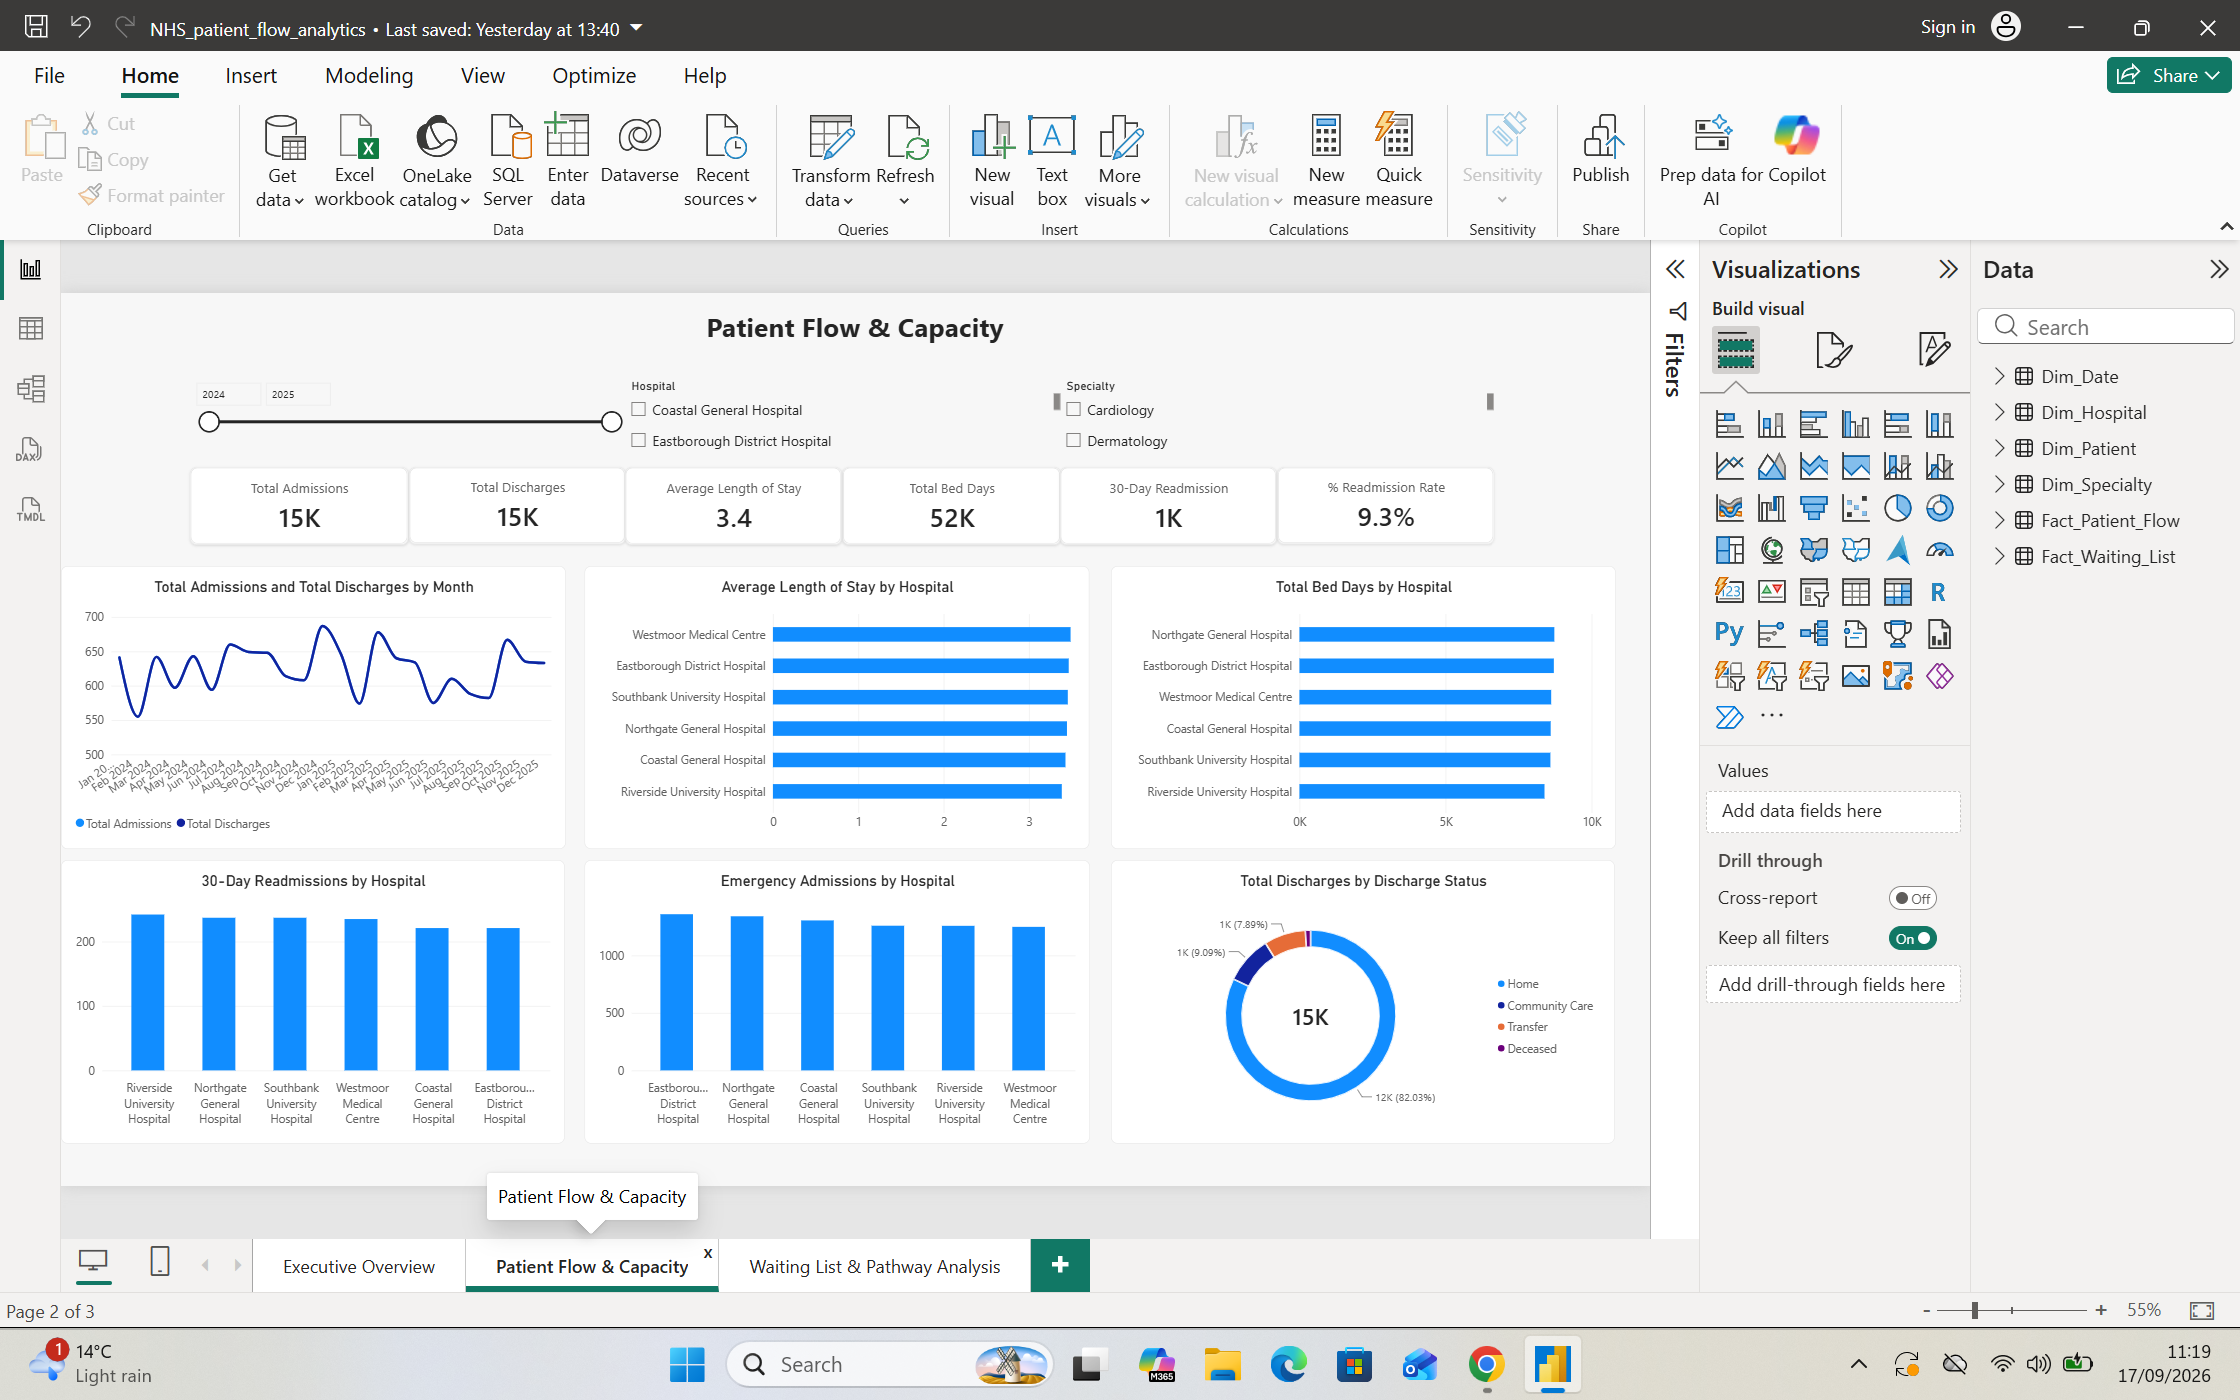

What the dashboard file says about the page in this screenshot:
{"tool":"powerbi","page":{"name":"Patient Flow & Capacity","canvas":[1920,1080],"ordinal":1},"visuals":[{"type":"textbox","box":[0,0,1919,81],"z":0},{"type":"cardVisual","fields":{"Data":["Fact_Patient_Flow.Total Admissions"]},"box":[156,210,264,94],"z":1},{"type":"cardVisual","fields":{"Data":["Fact_Patient_Flow.Total Discharges"]},"box":[420,210,262,93.3],"z":2},{"type":"cardVisual","fields":{"Data":["Fact_Patient_Flow.Total Bed Days"]},"box":[944,210,264,94],"z":3},{"type":"cardVisual","fields":{"Data":["Fact_Patient_Flow.30-Readmission Rate"]},"box":[1208,210,262,94],"z":4},{"type":"cardVisual","fields":{"Data":["Fact_Patient_Flow.Average Length of Stay"]},"box":[682,210,262,94],"z":5},{"type":"cardVisual","fields":{"Data":["Fact_Patient_Flow.% Readmission Rate"]},"box":[1470,210,262,93.3],"z":6},{"type":"lineChart","title":"Total Admissions and Total Discharges by Month","fields":{"Category":["Dim_Date.Month_Year"],"Y":["Fact_Patient_Flow.Total Admissions","Fact_Patient_Flow.Total Discharges"]},"box":[0,330,610,342],"z":7},{"type":"clusteredBarChart","title":"Average Length of Stay by Hospital","fields":{"Category":["Dim_Hospital.Hospital_Name"],"Y":["Fact_Patient_Flow.Average Length of Stay"]},"box":[632,330,610,342],"z":8},{"type":"clusteredBarChart","title":"Total Bed Days by Hospital","fields":{"Category":["Dim_Hospital.Hospital_Name"],"Y":["Fact_Patient_Flow.Total Bed Days"]},"box":[1268,330,610,342],"z":9},{"type":"clusteredColumnChart","title":"30-Day Readmissions by Hospital","fields":{"Category":["Dim_Hospital.Hospital_Name"],"Y":["Fact_Patient_Flow.30-Day Readmission"]},"box":[0,685.1,609,342.6],"z":10},{"type":"clusteredColumnChart","title":"Emergency Admissions by Hospital","fields":{"Category":["Dim_Hospital.Hospital_Name"],"Y":["Fact_Patient_Flow.Emergency Admissions"]},"box":[632.6,685.1,610.8,342.6],"z":11},{"type":"donutChart","title":"Total Discharges by Discharge Status","fields":{"Category":["Fact_Patient_Flow.Discharge_Status"],"Y":["Fact_Patient_Flow.Total Discharges"]},"box":[1268.7,685.1,609,342.6],"z":12},{"type":"slicer","fields":{"Values":["Dim_Date.Year"]},"box":[156,104,526,85.3],"z":13},{"type":"slicer","fields":{"Values":["Dim_Hospital.Hospital_Name"]},"box":[682,104,526,86],"z":14},{"type":"slicer","fields":{"Values":["Dim_Specialty.Specialty_Name"]},"box":[1208,104,524,86],"z":15}]}

Visuals, with their boxes on the page's 1920x1080 design canvas (x1, y1, x2, y2). These are canvas units, not pixel positions in the 2240x1400 screenshot, which may show the page scaled, cropped or inside an application window:
textbox: (x1=0, y1=0, x2=1919, y2=81)
cardVisual - Fact_Patient_Flow.Total Admissions: (x1=156, y1=210, x2=420, y2=304)
cardVisual - Fact_Patient_Flow.Total Discharges: (x1=420, y1=210, x2=682, y2=303)
cardVisual - Fact_Patient_Flow.Total Bed Days: (x1=944, y1=210, x2=1208, y2=304)
cardVisual - Fact_Patient_Flow.30-Readmission Rate: (x1=1208, y1=210, x2=1470, y2=304)
cardVisual - Fact_Patient_Flow.Average Length of Stay: (x1=682, y1=210, x2=944, y2=304)
cardVisual - Fact_Patient_Flow.% Readmission Rate: (x1=1470, y1=210, x2=1732, y2=303)
"Total Admissions and Total Discharges by Month" lineChart: (x1=0, y1=330, x2=610, y2=672)
"Average Length of Stay by Hospital" clusteredBarChart: (x1=632, y1=330, x2=1242, y2=672)
"Total Bed Days by Hospital" clusteredBarChart: (x1=1268, y1=330, x2=1878, y2=672)
"30-Day Readmissions by Hospital" clusteredColumnChart: (x1=0, y1=685, x2=609, y2=1028)
"Emergency Admissions by Hospital" clusteredColumnChart: (x1=633, y1=685, x2=1243, y2=1028)
"Total Discharges by Discharge Status" donutChart: (x1=1269, y1=685, x2=1878, y2=1028)
slicer - Dim_Date.Year: (x1=156, y1=104, x2=682, y2=189)
slicer - Dim_Hospital.Hospital_Name: (x1=682, y1=104, x2=1208, y2=190)
slicer - Dim_Specialty.Specialty_Name: (x1=1208, y1=104, x2=1732, y2=190)
